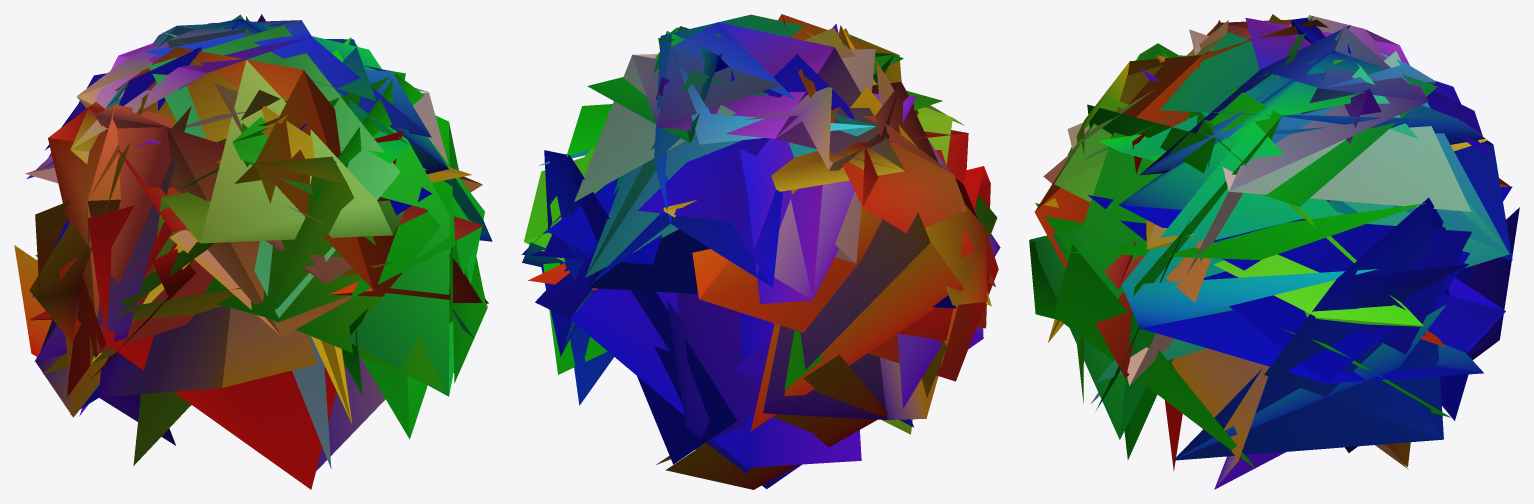
File: zeometry-fragments-ruins-shard-cluster_v1.glb
3 renders of one model, left to right at view 1: azimuth 30°, elevation 25°; view 2: azimuth 150°, elevation 25°; view 3: azimuth 270°, elevation 25°, orthographic. The views are drawn at different scales.
Parts seen in each view (by area): view 1: Shard Cluster_v1; view 2: Shard Cluster_v1; view 3: Shard Cluster_v1.
Boxes of the visible parts, x1=… form: Shard Cluster_v1: x1=14, y1=14, x2=492, y2=489; Shard Cluster_v1: x1=522, y1=14, x2=1000, y2=489; Shard Cluster_v1: x1=1029, y1=14, x2=1519, y2=489.
Bounding box in the file's own units: 0.5 × 0.4872 × 0.4937.
